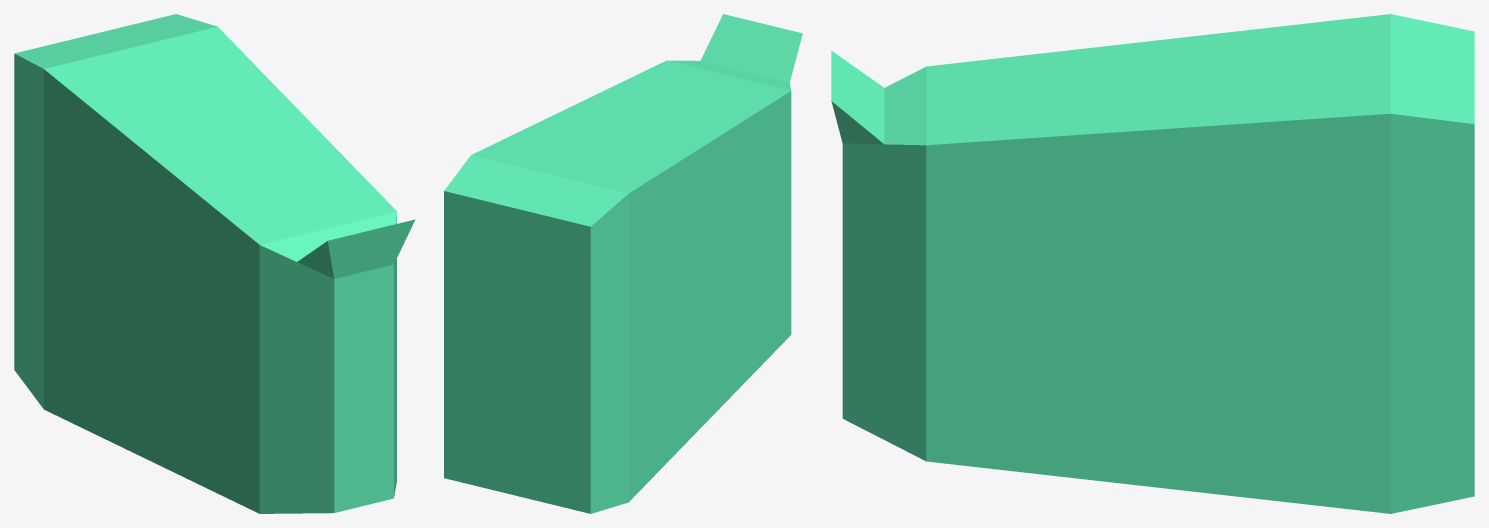
Rendered from SaltBag.obj.
The picture shows the model from 3 angles, left to right: view 1: azimuth 30°, elevation 25°; view 2: azimuth 150°, elevation 25°; view 3: azimuth 270°, elevation 25°; orthographic projection. The views are drawn at different scales.
Parts seen in each view (by area): view 1: bag.000_bag.001; view 2: bag.000_bag.001; view 3: bag.000_bag.001.
Boxes of the visible parts, box(x1,y1,x2,y2) form: bag.000_bag.001: box(14, 14, 415, 513); bag.000_bag.001: box(444, 14, 802, 513); bag.000_bag.001: box(831, 14, 1474, 513).
Bounding box in the file's own units: 0.1101 × 0.2059 × 0.2999.
